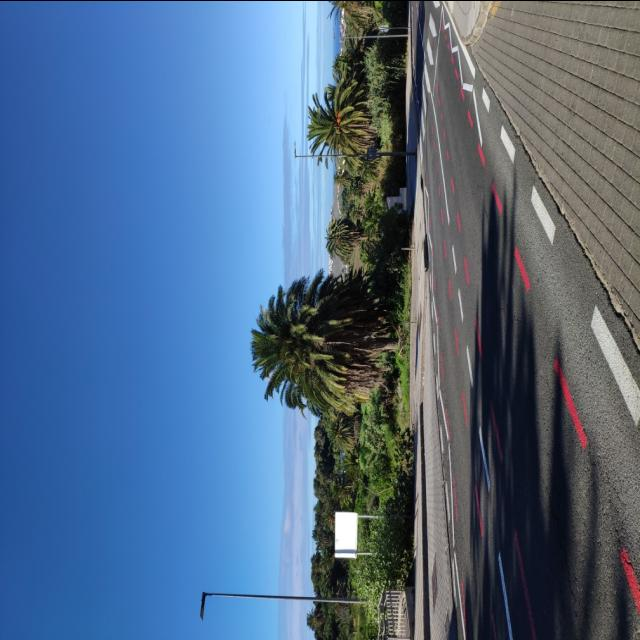Palm-Trees: (252, 276, 398, 414), (306, 82, 378, 164), (324, 217, 368, 258)
